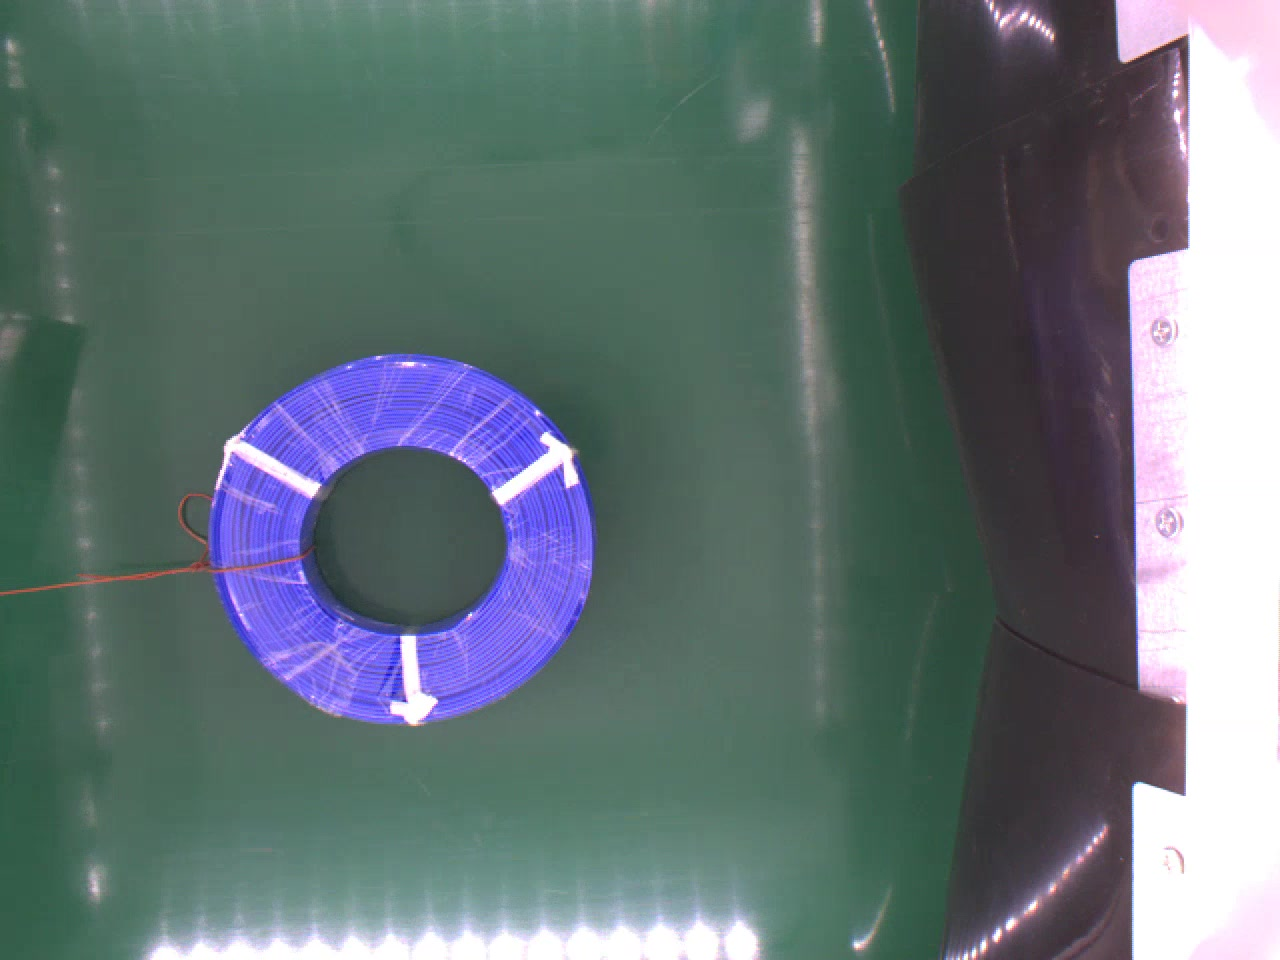blue: (200, 343, 596, 723)
